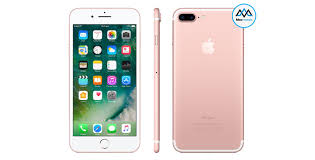iphone: (66, 3, 143, 156), (170, 6, 247, 159)
iphone7: (67, 4, 144, 157), (168, 6, 245, 159)
